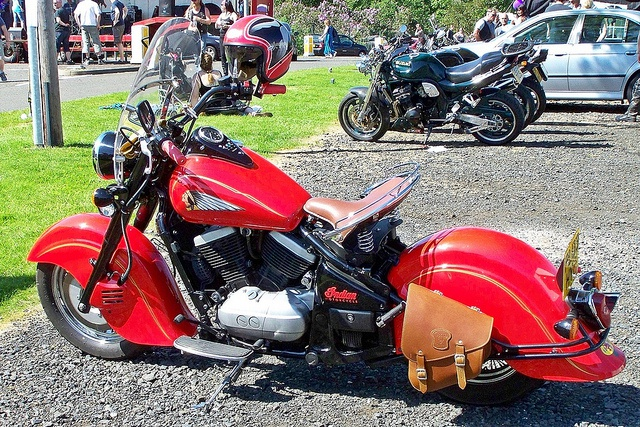non-vehicle: (30, 16, 628, 408), (337, 25, 548, 145)
